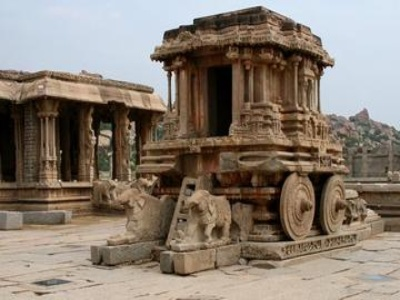mandapa: (10, 57, 163, 194)
